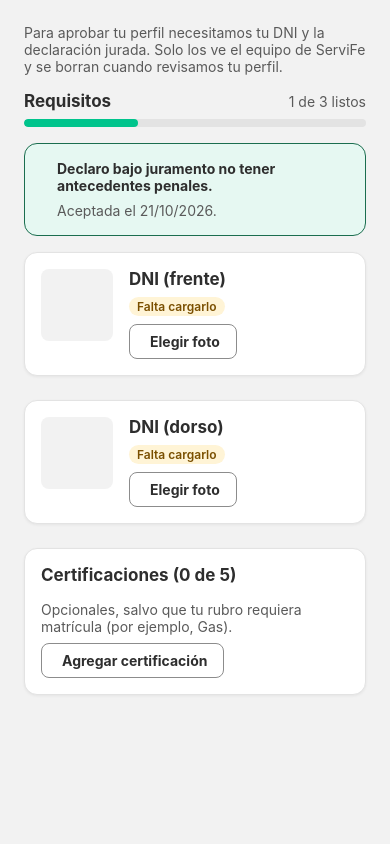
it: DocumentosScreen › un error del backend se avisa, por ejemplo el expediente cerrado
Click the button "Agregar certificación" at (133, 660), box [41,643,224,678]
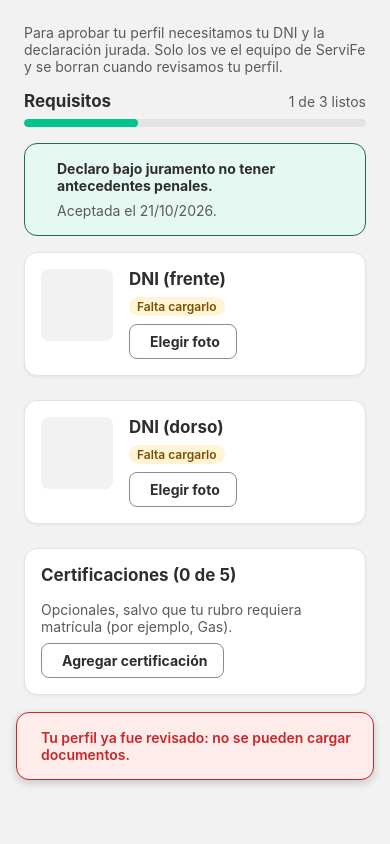
Expected: the text "Tu perfil ya fue revisado: no se pueden cargar documentos." is shown, [41,729,357,763]
